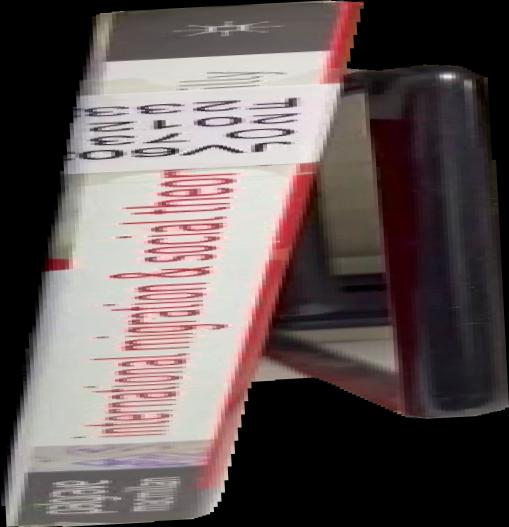reverse: (1, 1, 509, 527)
